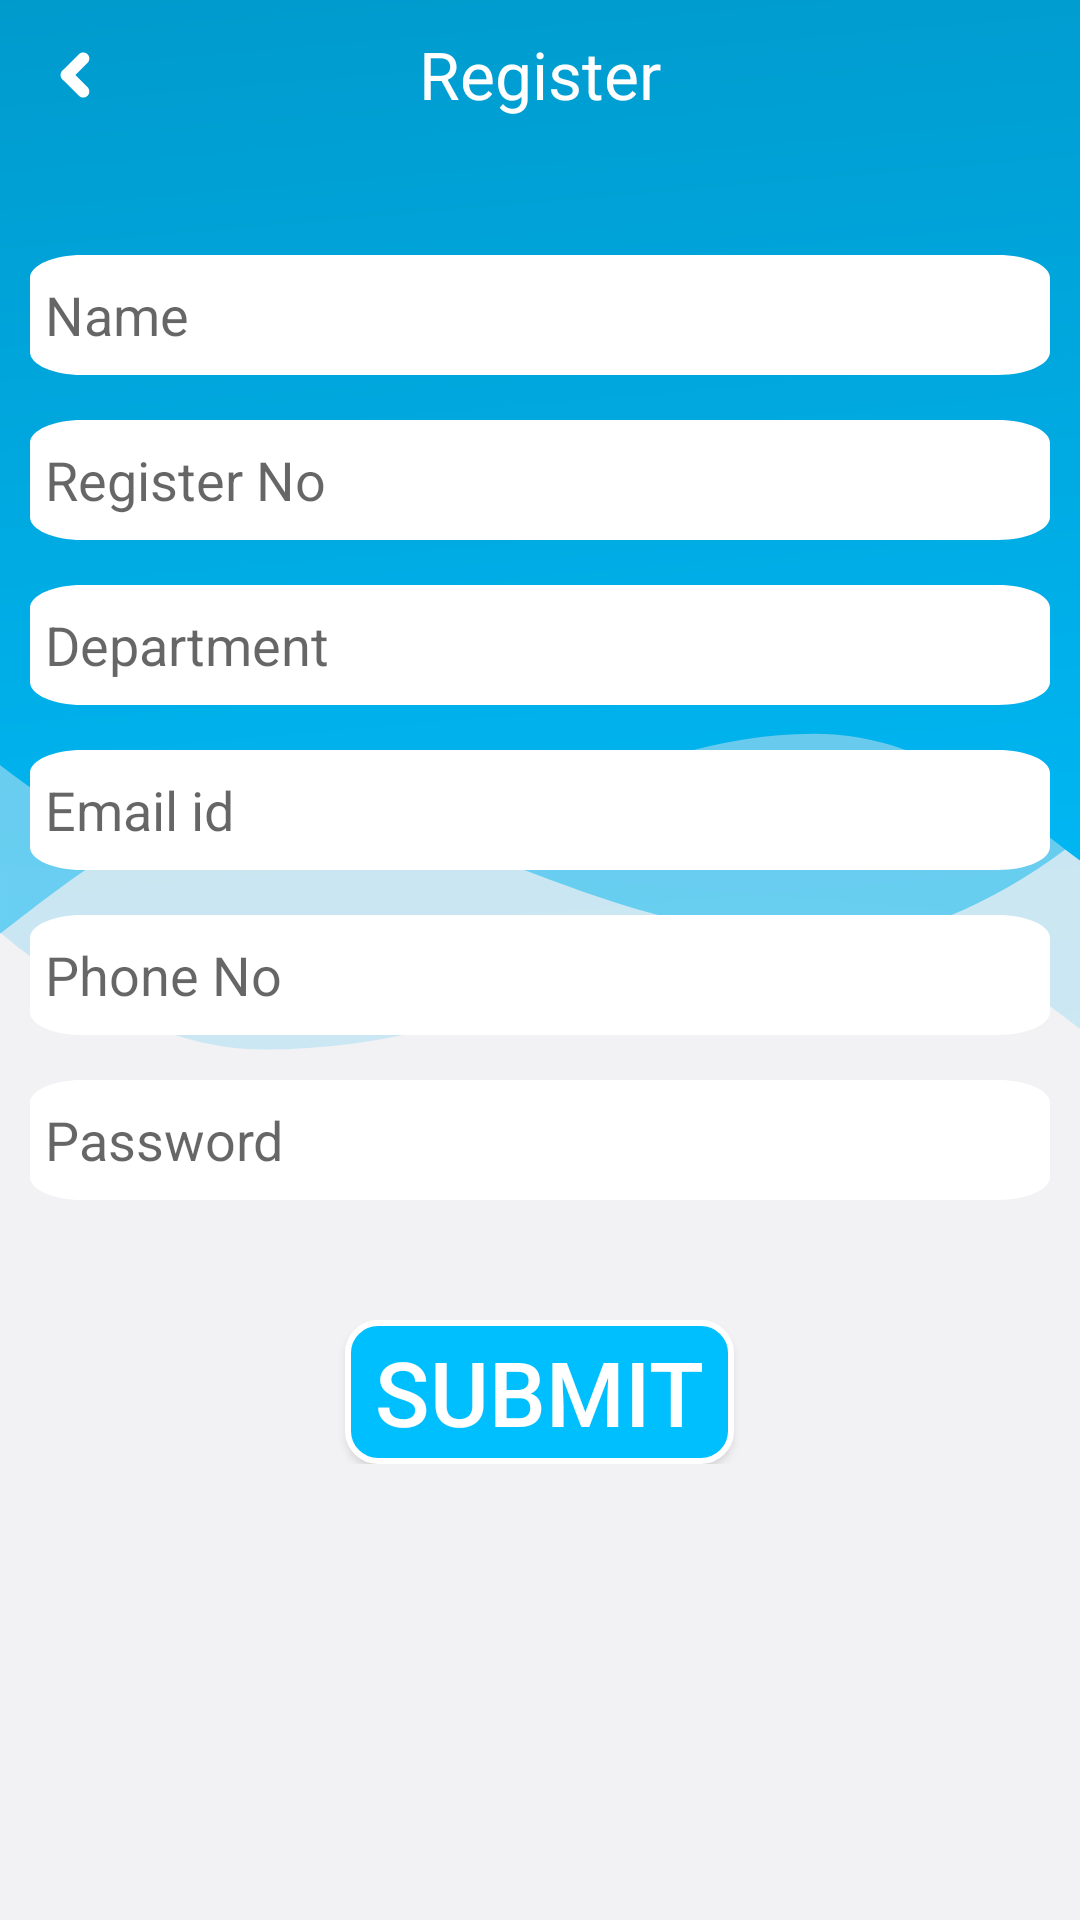

Screen size 1080px x 1920px. Icon name, then its center in pixels as (x=x, y=y):
back: (x=75, y=75)
